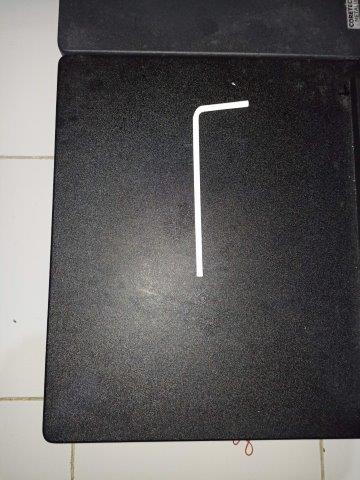karet: (233, 439, 254, 456)
sedotan: (192, 100, 249, 277)
